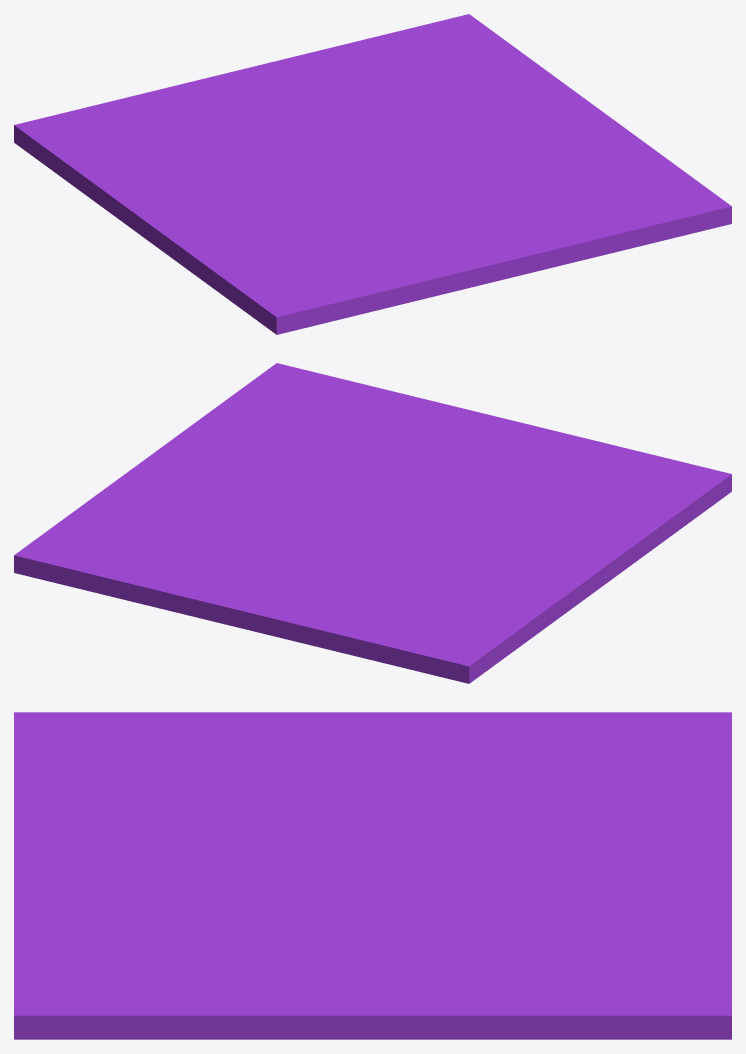
Rendered from Platform_38_chunks.fbx.
3 views of the same model, one above another, from view 1: azimuth 30°, elevation 25°; view 2: azimuth 150°, elevation 25°; view 3: azimuth 270°, elevation 25° (orthographic). The views are drawn at different scales.
Parts seen in each view (by area): view 1: Platform_38_0, Platform_38_4, Platform_38_3, Platform_38_8, Platform_38_1, Platform_38_5, Platform_38_9, Platform_38_11, Platform_38_17, Platform_38_18, Platform_38_2, Platform_38_15 (+5 smaller); view 2: Platform_38_0, Platform_38_4, Platform_38_3, Platform_38_8, Platform_38_1, Platform_38_5, Platform_38_9, Platform_38_11, Platform_38_2, Platform_38_15, Platform_38_14, Platform_38_13 (+5 smaller); view 3: Platform_38_0, Platform_38_4, Platform_38_3, Platform_38_8, Platform_38_9, Platform_38_1, Platform_38_5, Platform_38_2, Platform_38_15, Platform_38_11, Platform_38_13, Platform_38_14 (+5 smaller).
Part boxes in pixels (bbox=[...]): Platform_38_0: bbox=[262, 14, 568, 152]; Platform_38_4: bbox=[192, 169, 446, 334]; Platform_38_3: bbox=[14, 64, 313, 156]; Platform_38_8: bbox=[366, 87, 617, 171]; Platform_38_1: bbox=[172, 152, 349, 272]; Platform_38_5: bbox=[382, 170, 731, 232]; Platform_38_9: bbox=[580, 123, 731, 217]; Platform_38_11: bbox=[51, 158, 189, 270]; Platform_38_17: bbox=[420, 232, 599, 282]; Platform_38_18: bbox=[552, 209, 717, 255]; Platform_38_2: bbox=[252, 109, 369, 179]; Platform_38_15: bbox=[415, 214, 556, 267]; Platform_38_0: bbox=[14, 482, 349, 625]; Platform_38_4: bbox=[379, 456, 731, 552]; Platform_38_3: bbox=[221, 565, 469, 680]; Platform_38_8: bbox=[114, 445, 381, 523]; Platform_38_1: bbox=[406, 516, 650, 572]; Platform_38_5: bbox=[293, 368, 441, 508]; Platform_38_9: bbox=[163, 363, 318, 446]; Platform_38_11: bbox=[488, 550, 644, 656]; Platform_38_2: bbox=[286, 514, 413, 565]; Platform_38_15: bbox=[382, 416, 557, 461]; Platform_38_14: bbox=[439, 599, 514, 683]; Platform_38_13: bbox=[426, 555, 581, 600]; Platform_38_0: bbox=[382, 869, 731, 1039]; Platform_38_4: bbox=[14, 712, 364, 865]; Platform_38_3: bbox=[492, 712, 731, 877]; Platform_38_8: bbox=[246, 860, 458, 1039]; Platform_38_9: bbox=[14, 960, 335, 1039]; Platform_38_1: bbox=[235, 712, 497, 842]; Platform_38_5: bbox=[14, 865, 352, 1039]; Platform_38_2: bbox=[350, 812, 572, 873]; Platform_38_15: bbox=[56, 818, 177, 921]; Platform_38_11: bbox=[300, 712, 606, 747]; Platform_38_13: bbox=[344, 731, 564, 797]; Platform_38_14: bbox=[535, 712, 728, 772].
Size of the model in its own units: 810 by 29.87 by 810.
